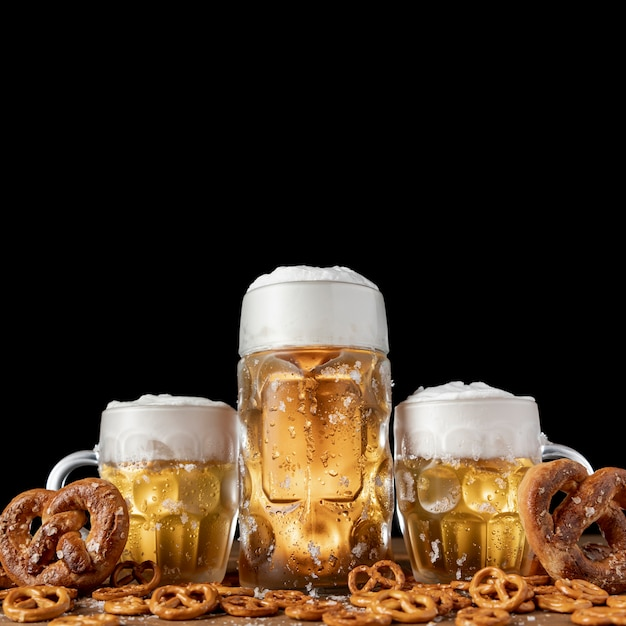alcohol: (227, 264, 397, 583), (394, 380, 596, 585), (42, 396, 247, 582)
